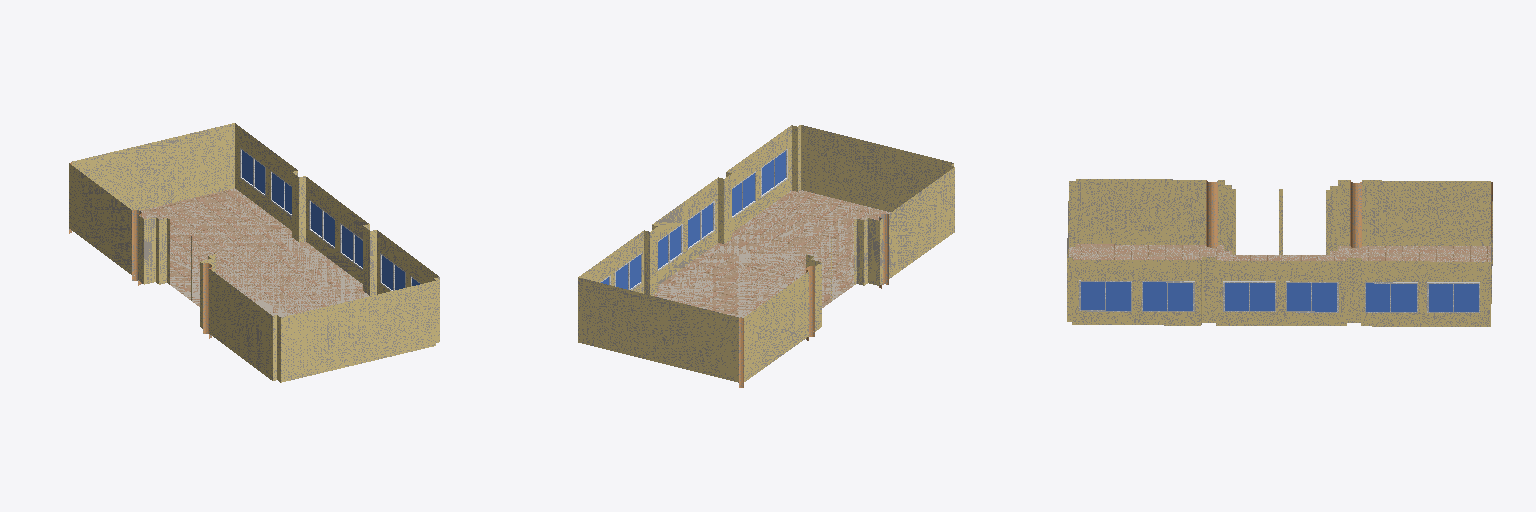
3 views of the same model, side by side, from view 1: azimuth 30°, elevation 25°; view 2: azimuth 150°, elevation 25°; view 3: azimuth 270°, elevation 25° (orthographic).
Parts seen in each view (by area): view 1: Mesh31 CUA006 Model, Mesh11 ventana2_3 CUA006 Model, Mesh1 ventana2_1 CUA006 Model, Mesh6 ventana2_2 CUA006 Model, Mesh21 ventana2_5 CUA006 Model, Mesh16 ventana2_4 CUA006 Model; view 2: Mesh31 CUA006 Model, Mesh6 ventana2_2 CUA006 Model, Mesh26 ventana2_6 CUA006 Model, Mesh11 ventana2_3 CUA006 Model, Mesh21 ventana2_5 CUA006 Model, Mesh16 ventana2_4 CUA006 Model; view 3: Mesh31 CUA006 Model, Mesh1 ventana2_1 CUA006 Model, Mesh6 ventana2_2 CUA006 Model, Mesh16 ventana2_4 CUA006 Model, Mesh21 ventana2_5 CUA006 Model, Mesh11 ventana2_3 CUA006 Model, Mesh26 ventana2_6 CUA006 Model.
Part boxes in pixels (x1,y1,x2,y2): Mesh31 CUA006 Model: (69,123,439,382); Mesh11 ventana2_3 CUA006 Model: (309,200,334,248); Mesh1 ventana2_1 CUA006 Model: (240,148,265,196); Mesh6 ventana2_2 CUA006 Model: (340,223,362,269); Mesh21 ventana2_5 CUA006 Model: (380,253,405,290); Mesh16 ventana2_4 CUA006 Model: (271,171,291,216); Mesh31 CUA006 Model: (578,125,954,387); Mesh6 ventana2_2 CUA006 Model: (688,201,714,249); Mesh26 ventana2_6 CUA006 Model: (761,149,787,197); Mesh11 ventana2_3 CUA006 Model: (658,224,682,270); Mesh21 ventana2_5 CUA006 Model: (732,171,755,217); Mesh16 ventana2_4 CUA006 Model: (615,253,641,289); Mesh31 CUA006 Model: (1067,179,1492,326); Mesh1 ventana2_1 CUA006 Model: (1427,282,1479,312); Mesh6 ventana2_2 CUA006 Model: (1223,281,1275,311); Mesh16 ventana2_4 CUA006 Model: (1365,282,1417,312); Mesh21 ventana2_5 CUA006 Model: (1142,281,1194,311); Mesh11 ventana2_3 CUA006 Model: (1286,281,1338,312); Mesh26 ventana2_6 CUA006 Model: (1079,280,1131,311).
Size of the model in its own units: 8.2 by 3.25 by 17.74.
8 materials, 1 textured.